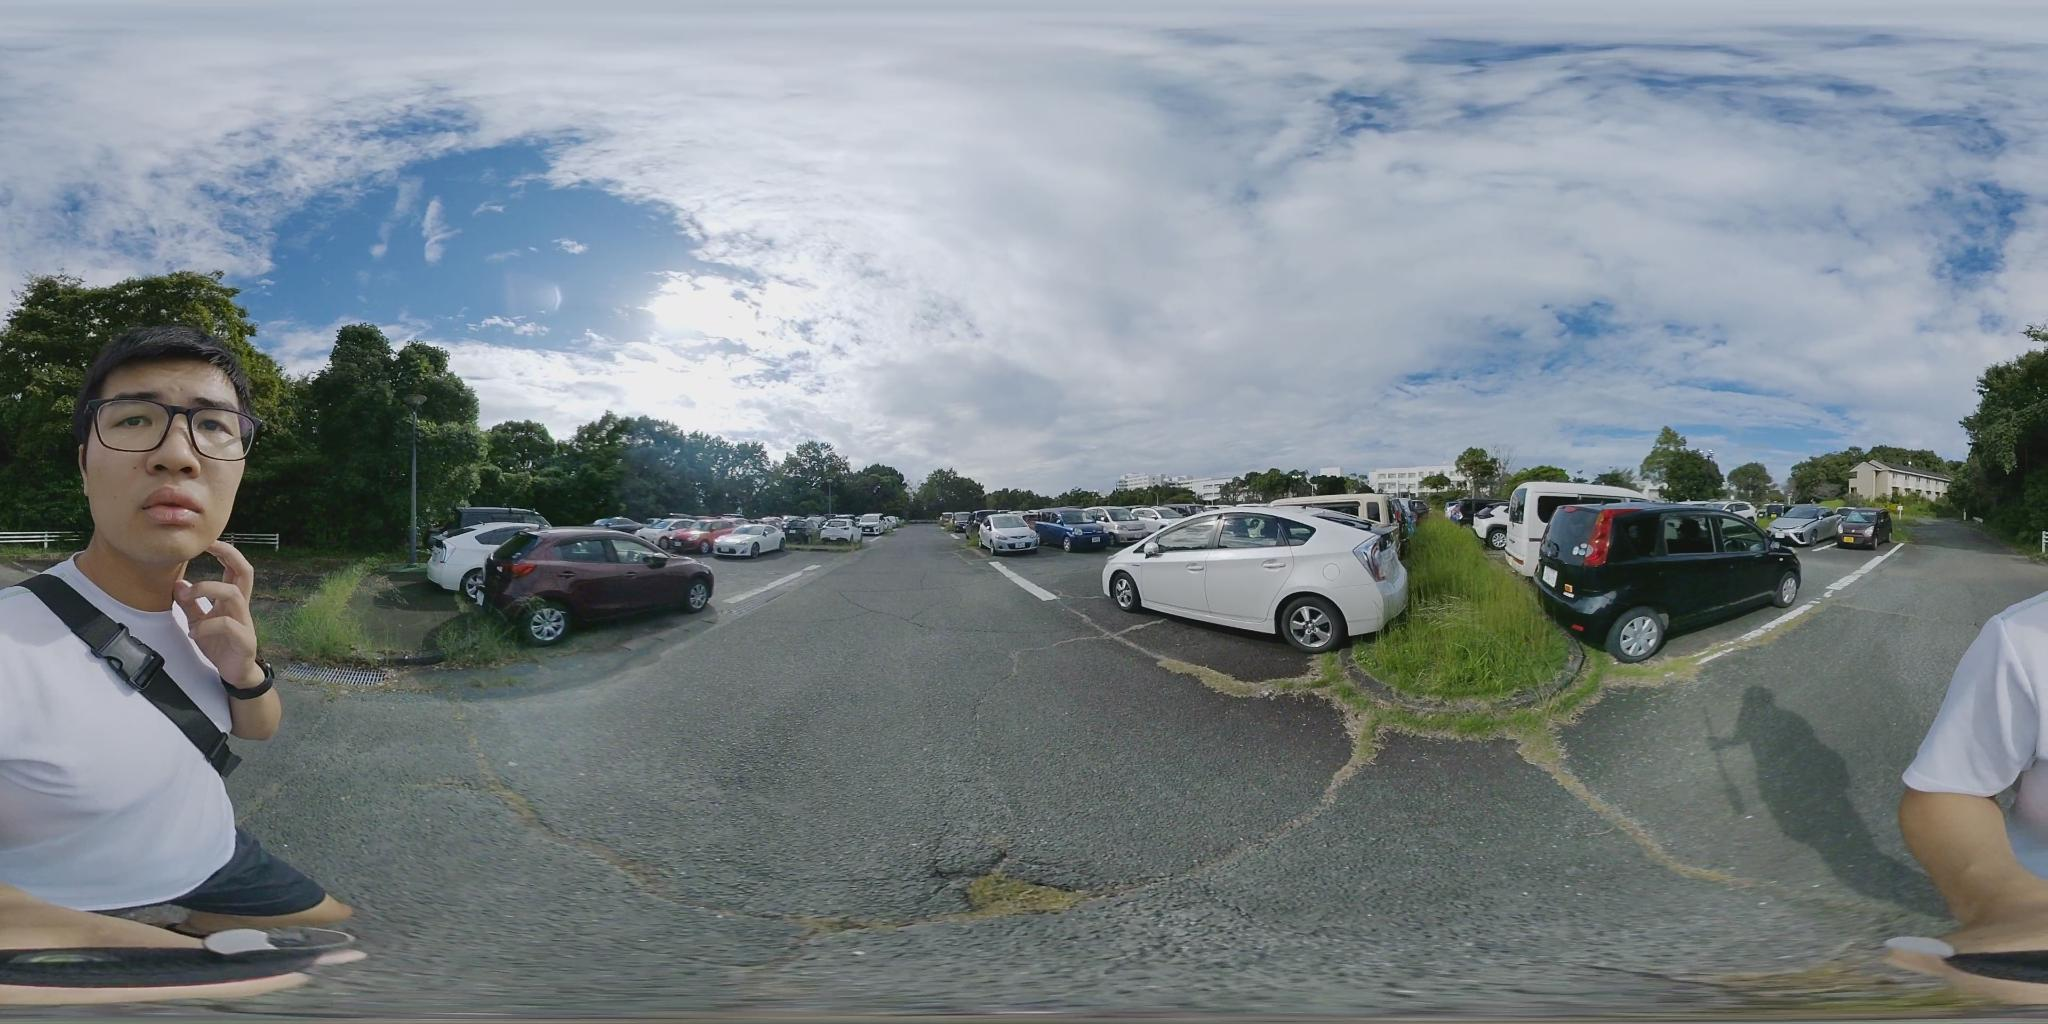car: (1505, 496, 1812, 666), (1104, 508, 1416, 653), (468, 530, 721, 647), (423, 526, 549, 601), (1772, 508, 1893, 550), (1040, 515, 1125, 552), (649, 519, 731, 554), (970, 513, 1038, 555), (711, 524, 786, 559), (859, 517, 899, 537)
